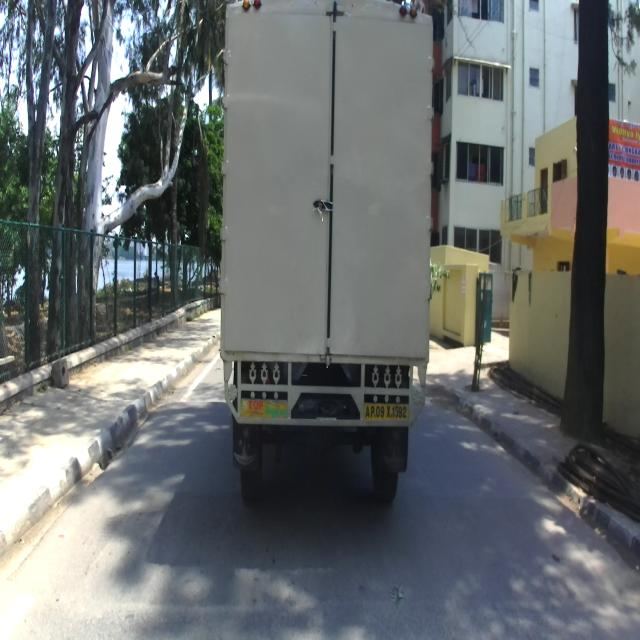truck ahead at: (220, 1, 432, 514)
